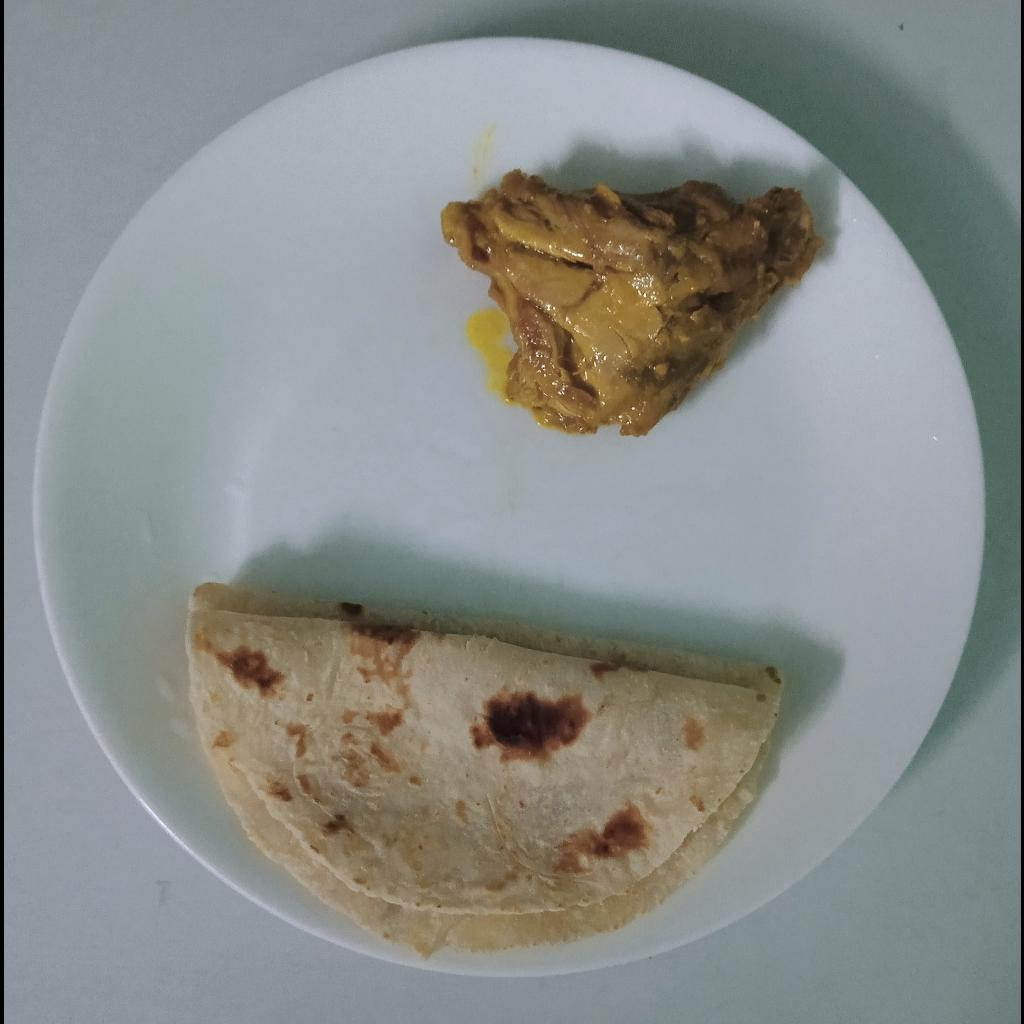chicken: (437, 169, 825, 440)
ruti: (182, 586, 781, 956)
